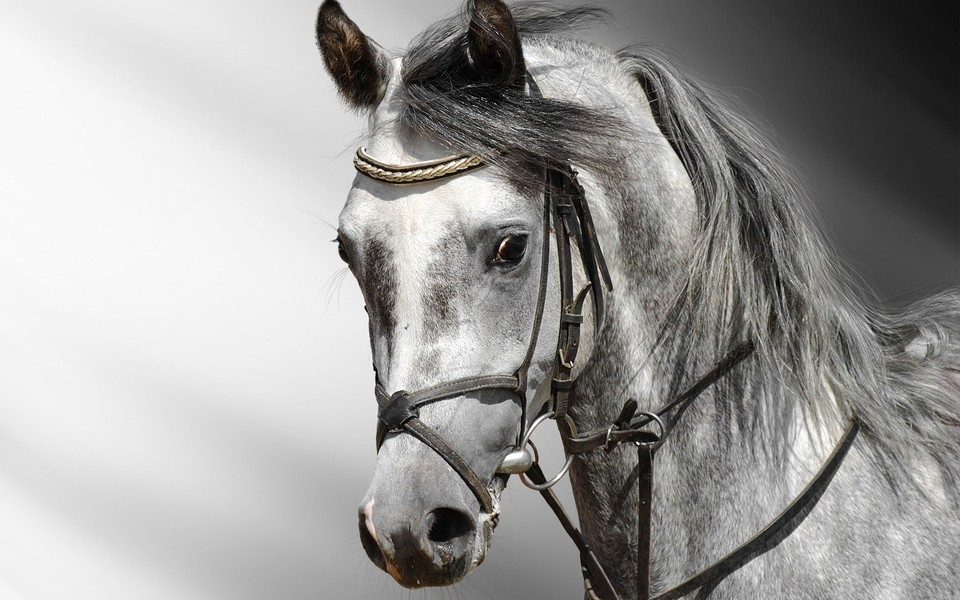horse: (309, 1, 960, 600)
